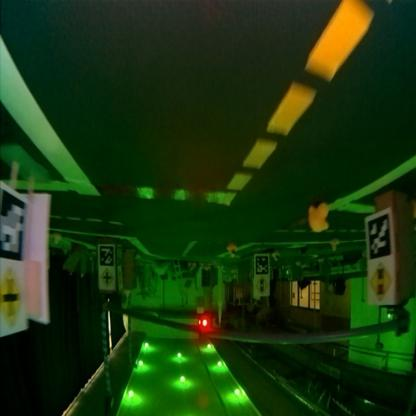Duckie: (312, 203, 330, 233), (227, 244, 238, 258), (330, 240, 340, 252), (54, 233, 62, 246), (274, 252, 280, 262)
Intersection sign: (1, 267, 25, 329), (102, 270, 114, 288)
QR code: (2, 188, 28, 262), (366, 213, 392, 260), (102, 247, 116, 268), (257, 256, 269, 276)
Signal sign: (370, 263, 394, 301), (257, 278, 269, 296)
Traffic light: (199, 314, 213, 332)
